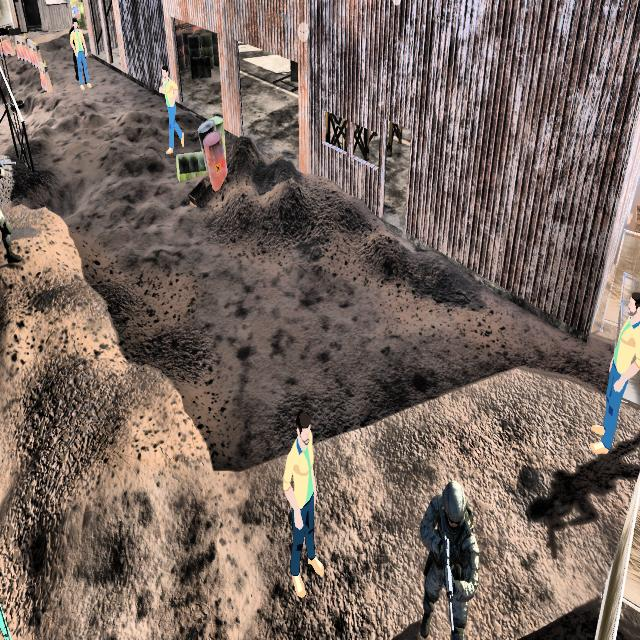bad: (409, 469, 482, 640)
good: (272, 404, 332, 618), (593, 266, 640, 512), (150, 51, 189, 155), (63, 18, 99, 99)
